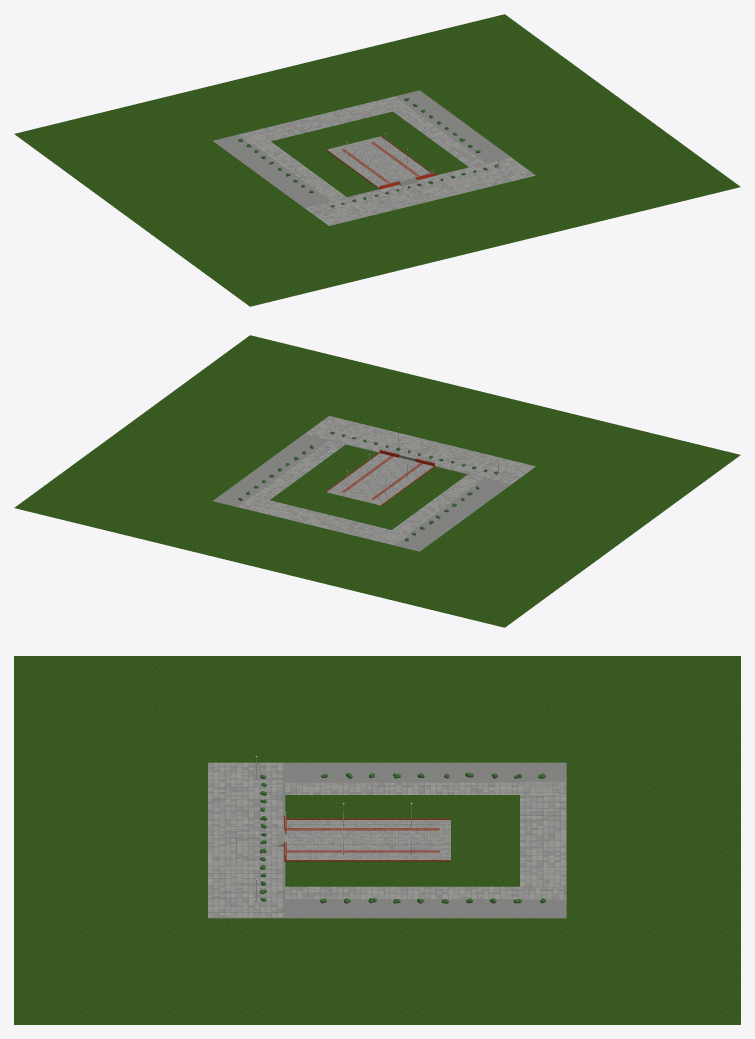
Rendered from Bhagat_Singh_Hostel_Site.glb.
3 renders of one model, top to bottom at view 1: azimuth 30°, elevation 25°; view 2: azimuth 150°, elevation 25°; view 3: azimuth 270°, elevation 25°, orthographic. The views are drawn at different scales.
Parts seen in each view (by area): view 1: BSH_Ground, BSH_Props; view 2: BSH_Ground, BSH_Props; view 3: BSH_Ground, BSH_Props.
Boxes of the visible parts, box(x1,y1,x2,y2) form: BSH_Ground: box(14, 14, 740, 306); BSH_Props: box(238, 98, 499, 209); BSH_Ground: box(14, 335, 740, 627); BSH_Props: box(238, 417, 498, 541); BSH_Ground: box(14, 656, 740, 1024); BSH_Props: box(236, 755, 545, 903).
Bounding box in the file's own units: 360 × 10.53 × 300.
10 materials, 6 textured.
